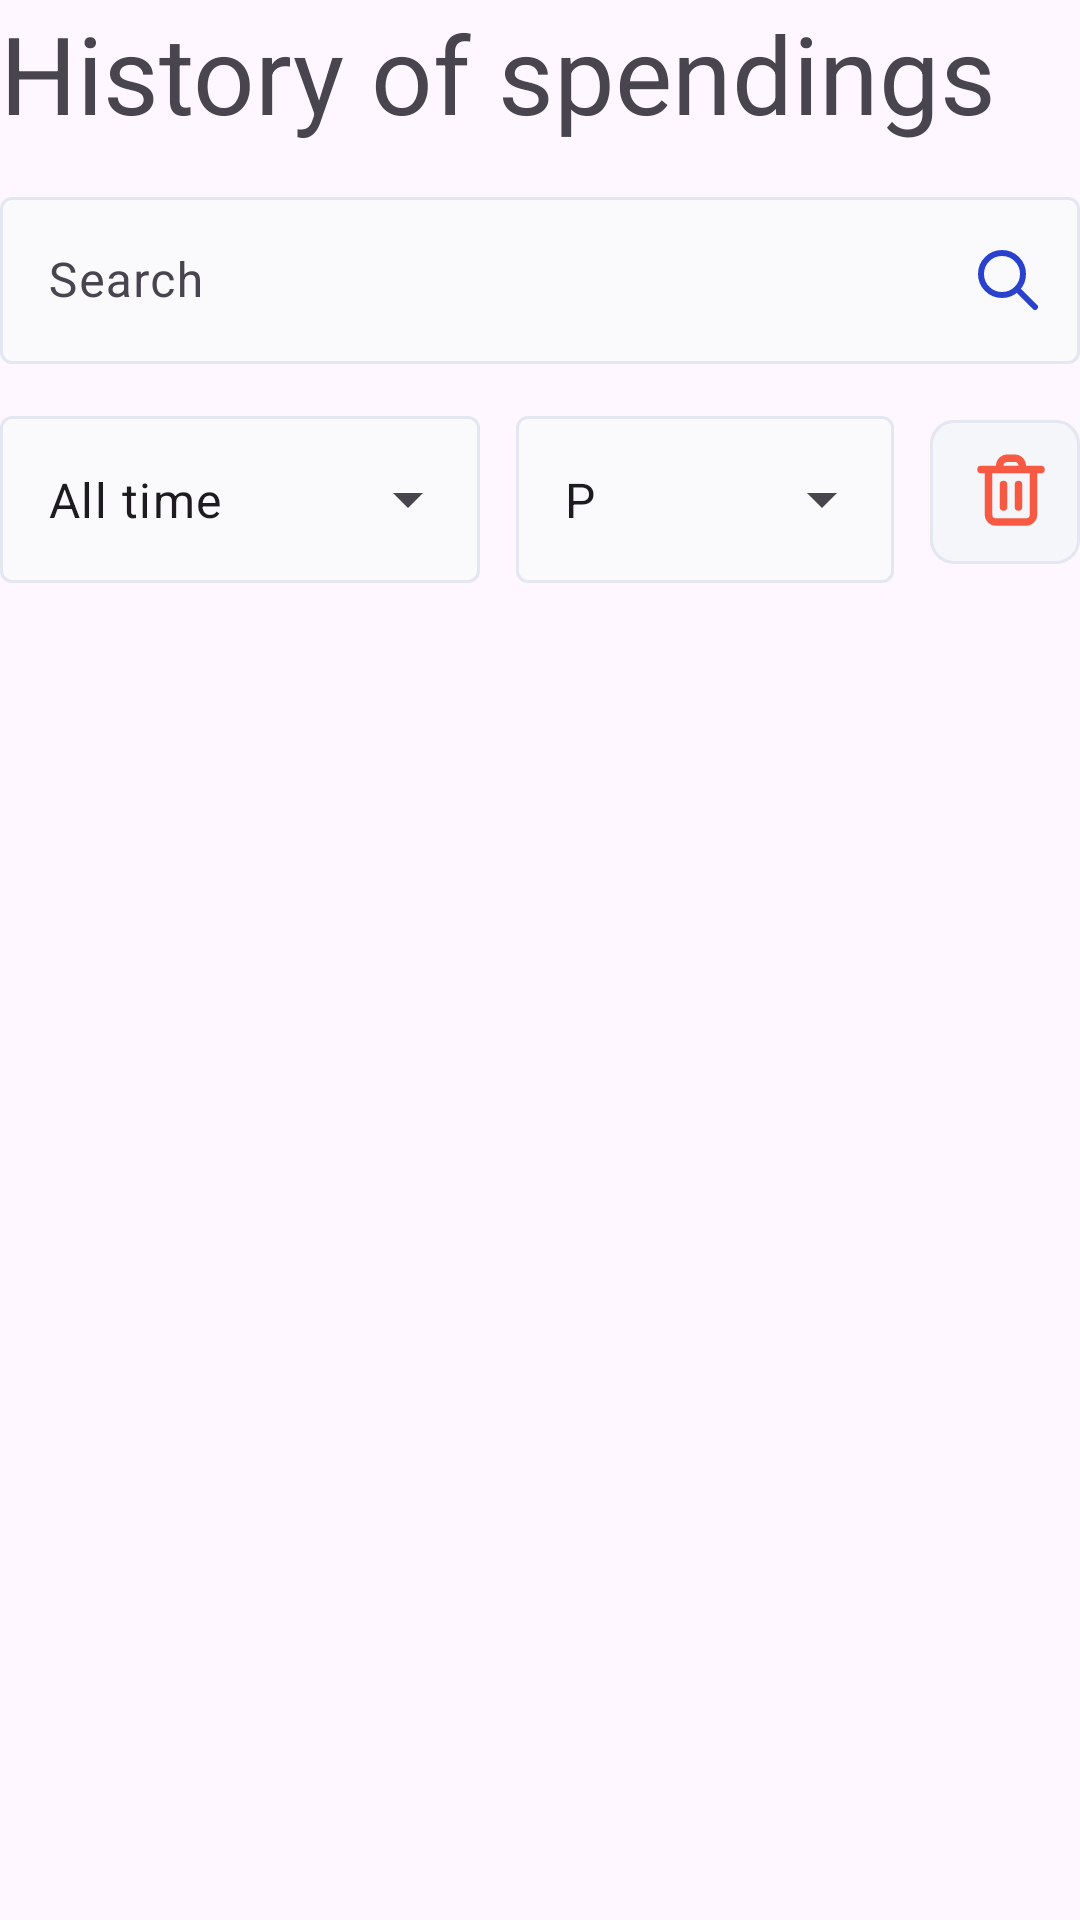

Icons on this 1080px x 1920px Android screen, each with its box as (x1, y1, x2, y2):
delete: (930, 420, 1080, 564)
